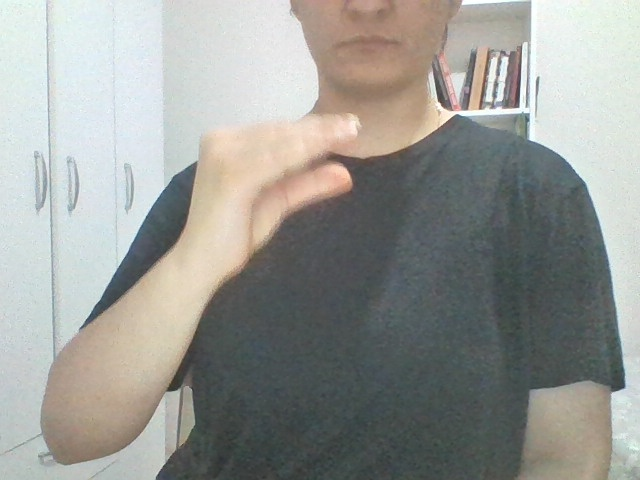No: (146, 77, 398, 335)
